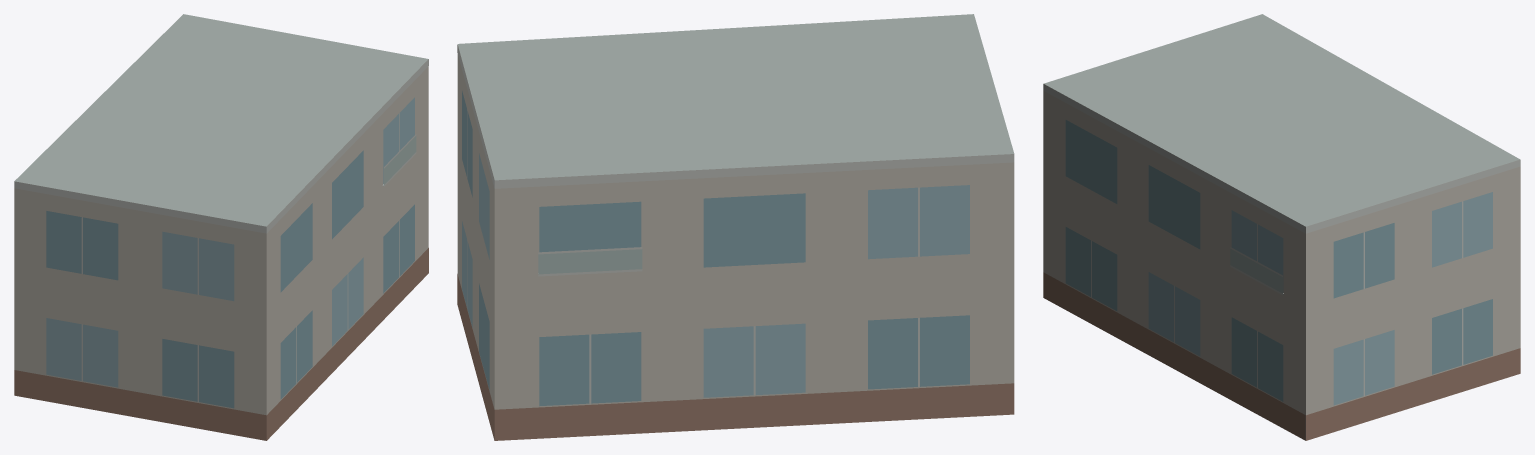
File: survey-upis-33031484.glb
The picture shows the model from 3 angles, left to right: view 1: azimuth 30°, elevation 25°; view 2: azimuth 150°, elevation 25°; view 3: azimuth 270°, elevation 25°; orthographic projection. The views are drawn at different scales.
Visible parts, largest first — view 1: survey-upis-33031484.tmp; view 2: survey-upis-33031484.tmp; view 3: survey-upis-33031484.tmp.
Boxes of the visible parts, x1,y1,x2,y2 form: survey-upis-33031484.tmp: (14,14,428,440); survey-upis-33031484.tmp: (457,14,1014,440); survey-upis-33031484.tmp: (1043,14,1520,440).
Size of the model in its own units: 15.99 by 7.5 by 15.15.
